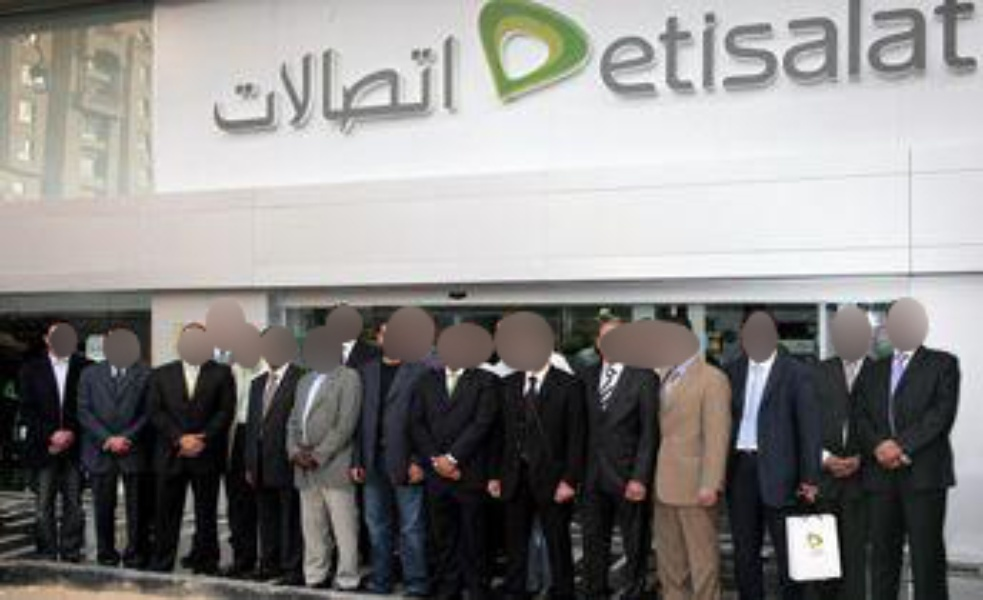text: (209, 23, 224, 141), (225, 23, 240, 141), (241, 23, 256, 141), (257, 23, 272, 141), (273, 23, 288, 141), (289, 23, 304, 141), (305, 23, 320, 141), (321, 23, 336, 141), (337, 23, 352, 141), (353, 23, 368, 141), (369, 23, 384, 141), (385, 23, 400, 141), (401, 23, 416, 141), (417, 23, 432, 141), (433, 23, 448, 141), (449, 23, 463, 141), (593, 1, 608, 101), (609, 1, 624, 101), (625, 1, 640, 101), (641, 1, 656, 101), (657, 1, 672, 101), (673, 1, 688, 101), (689, 1, 704, 101), (705, 1, 720, 101), (721, 1, 736, 101), (737, 1, 752, 101), (753, 1, 768, 101), (769, 1, 784, 101), (785, 1, 800, 101), (801, 1, 816, 101), (817, 1, 832, 101), (833, 1, 848, 101), (849, 1, 864, 101), (865, 1, 880, 101), (881, 1, 896, 101), (897, 1, 912, 101), (913, 1, 928, 101), (929, 1, 944, 101), (945, 1, 960, 101), (961, 1, 976, 101), (581, 1, 592, 101), (977, 1, 978, 101)
